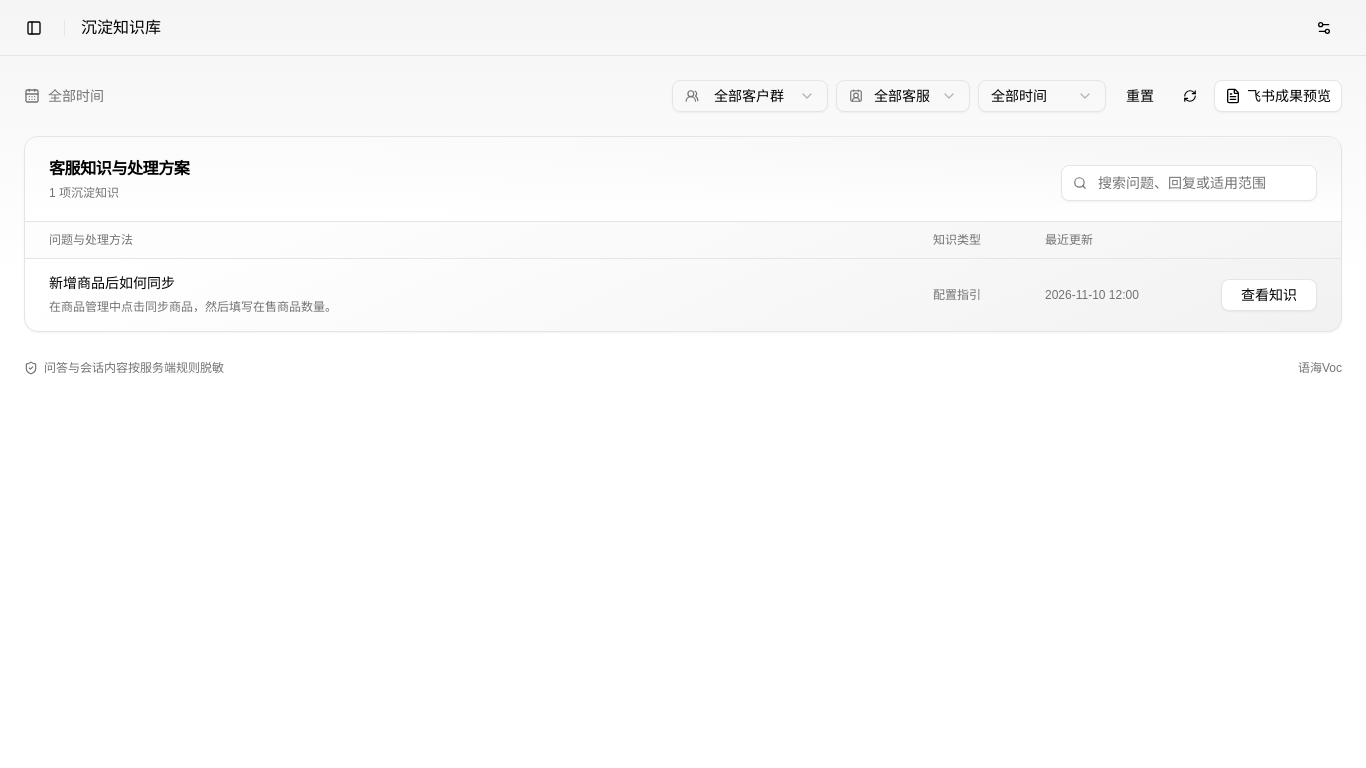
Test: VOC navigation › shows source-backed staff guidance without claiming an observed fix and opens its full context
Click the button with aria-label "查看知识 · 新增商品后如何同步" at (1269, 295), box [1221, 279, 1317, 311]
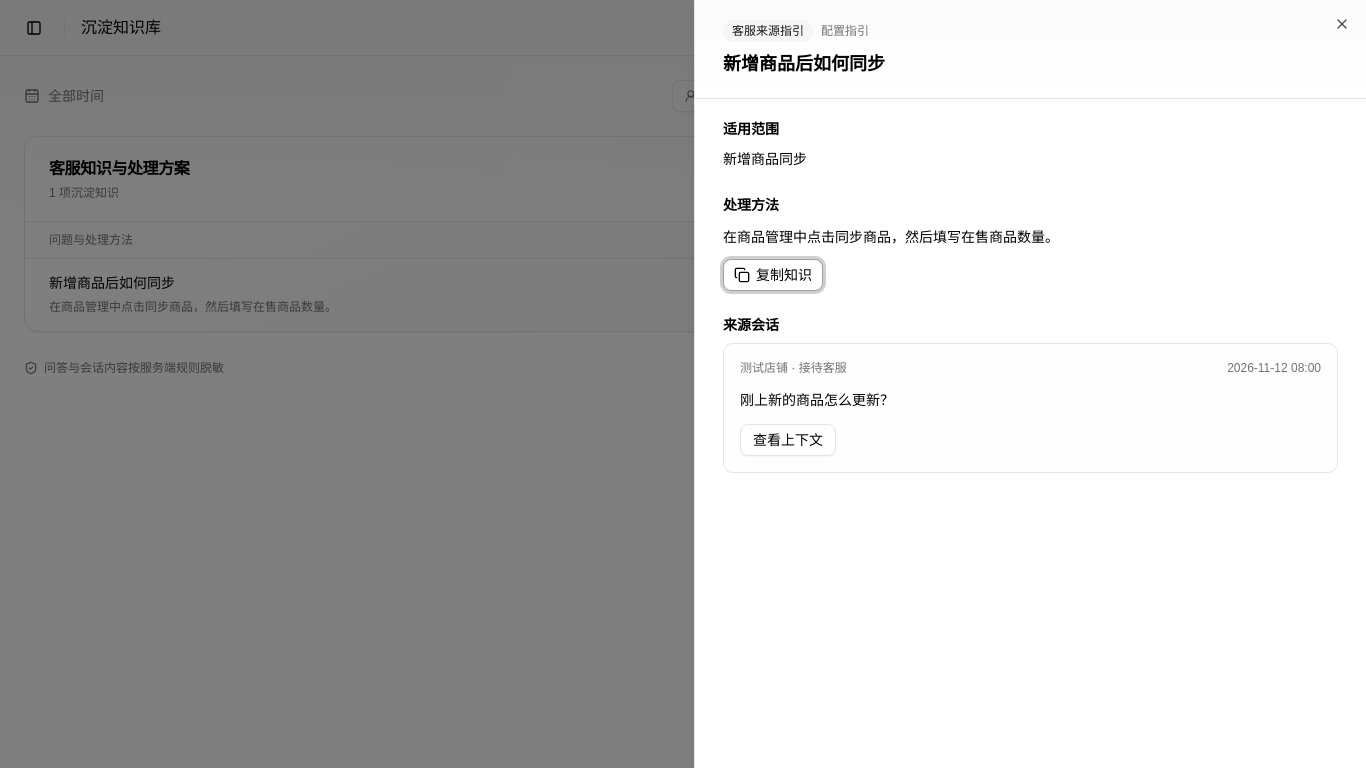
Check: the text "在商品管理中点击同步商品，然后填写在售商品数量。" is shown, box [723, 229, 1059, 245]
Check: the text "客服来源指引" is shown, box [723, 20, 813, 42]
Check: the text "测试店铺 · 接待客服" is shown, box [740, 360, 847, 376]
Click the button with aria-label "查看来源会话 24" at (788, 440), box [740, 424, 836, 456]
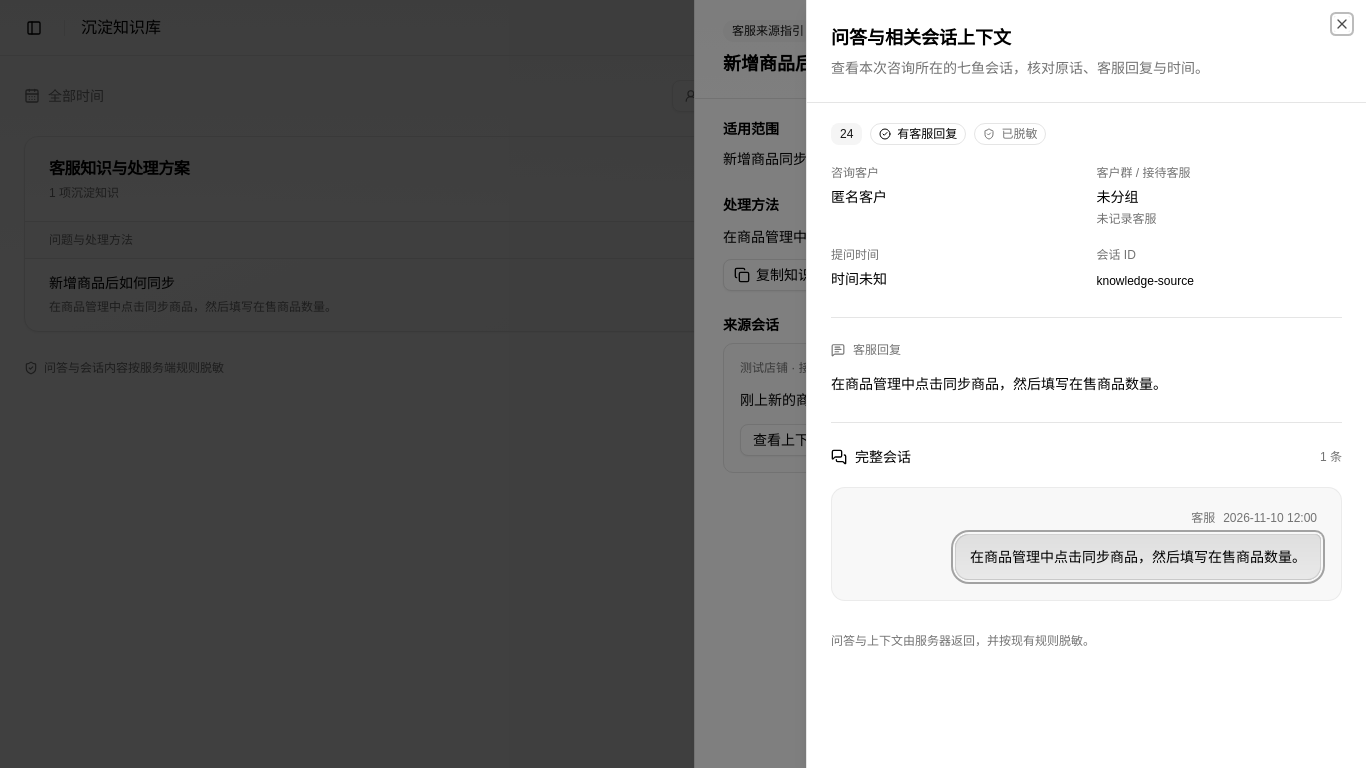
Check: the text "在商品管理中点击同步商品，然后填写在售商品数量。" below "完整会话" is shown, box [970, 549, 1306, 565]
